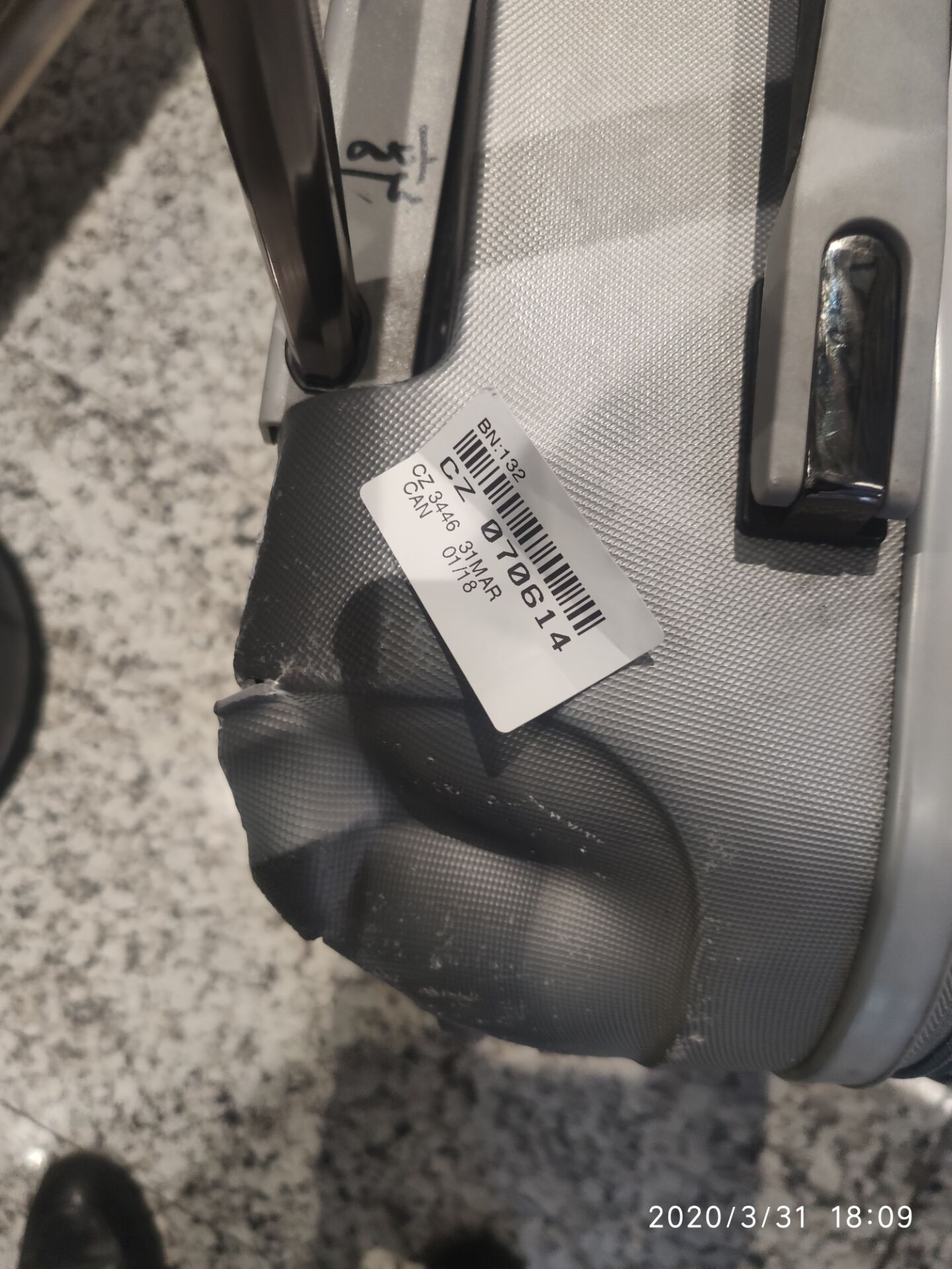hollow: (218, 670, 654, 970)
